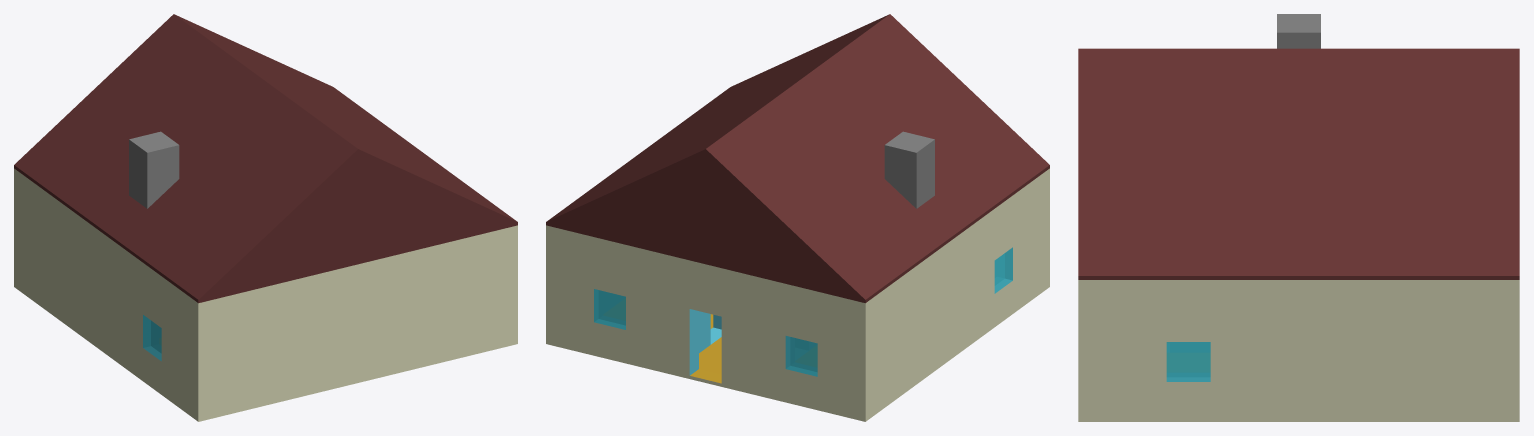
File: House1r.fbx
The picture shows the model from 3 angles, left to right: view 1: azimuth 30°, elevation 25°; view 2: azimuth 150°, elevation 25°; view 3: azimuth 270°, elevation 25°; orthographic projection. The views are drawn at different scales.
Visible parts, largest first — view 1: Roof1, House1, WindowGlass3; view 2: Roof1, House1, WindowGlass2, WindowGlass1, WindowGlass3; view 3: Roof1, House1, WindowGlass4.
Part boxes in pixels (bbox=[...]): Roof1: bbox=[14, 14, 517, 303]; House1: bbox=[14, 168, 517, 421]; WindowGlass3: bbox=[143, 315, 161, 361]; Roof1: bbox=[546, 14, 1049, 303]; House1: bbox=[546, 168, 1049, 421]; WindowGlass2: bbox=[785, 336, 817, 376]; WindowGlass1: bbox=[594, 289, 625, 329]; WindowGlass3: bbox=[994, 247, 1012, 293]; Roof1: bbox=[1078, 14, 1519, 279]; House1: bbox=[1078, 280, 1519, 421]; WindowGlass4: bbox=[1166, 342, 1210, 381].
Size of the model in its own units: 2000 by 1400 by 2000.
